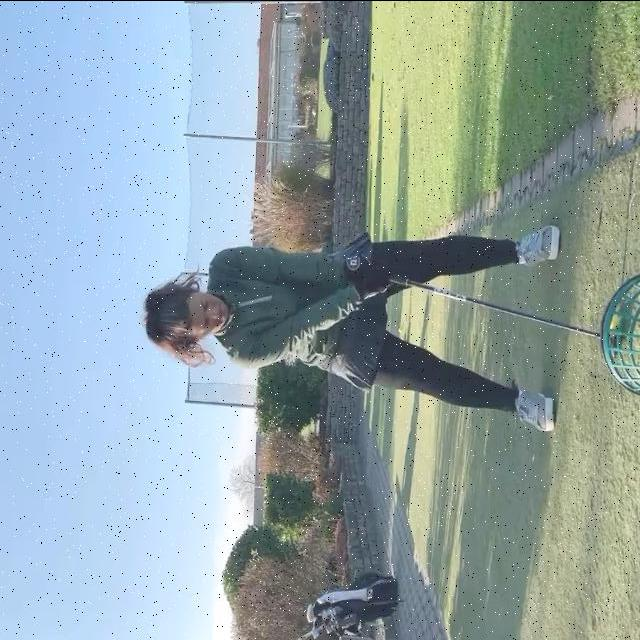golf ball: (611, 313, 620, 327)
golf club-handle: (392, 273, 616, 355)
golf club-head: (608, 335, 617, 355)
